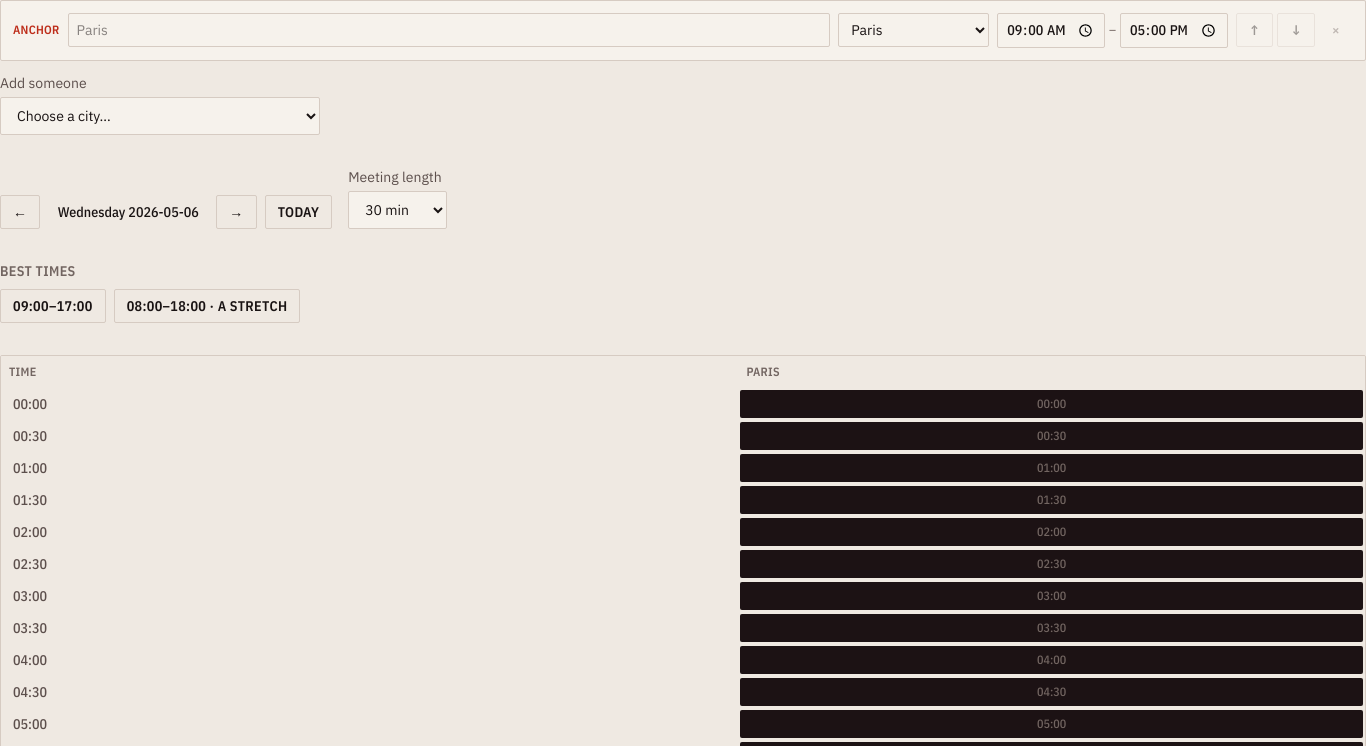
Test: MeetingView › adds a city and gives it a column in the grid
Select "New York" in the dropdown named "Add a participant" at x=160, y=116, box [0, 97, 320, 135]
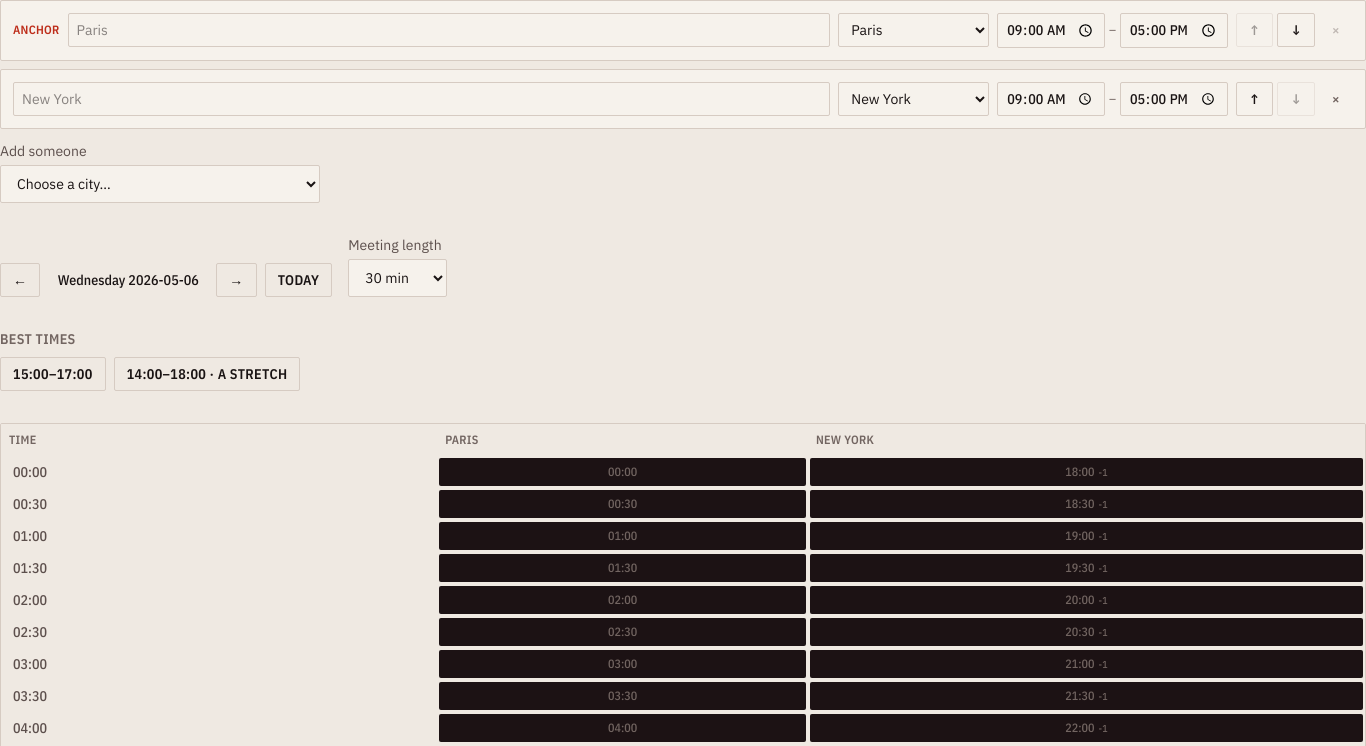
Now the column heading "New York" is shown, box [808, 424, 1365, 456]
